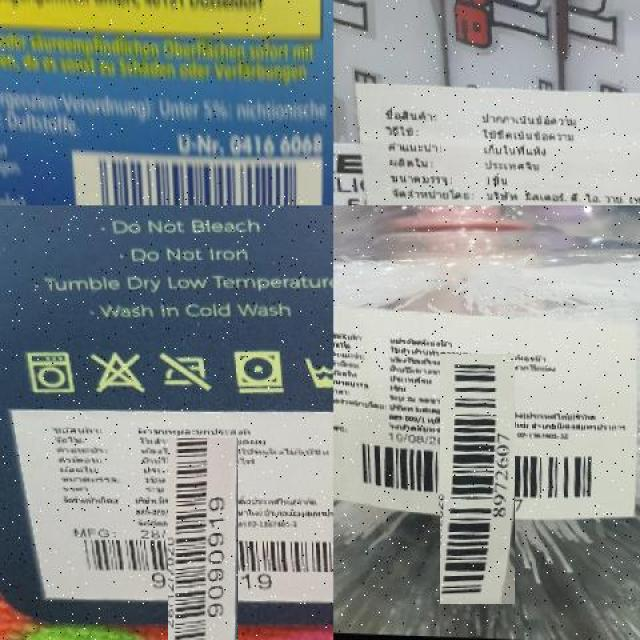Barcode: (396, 398, 559, 561), (120, 486, 286, 640), (79, 156, 333, 205)
